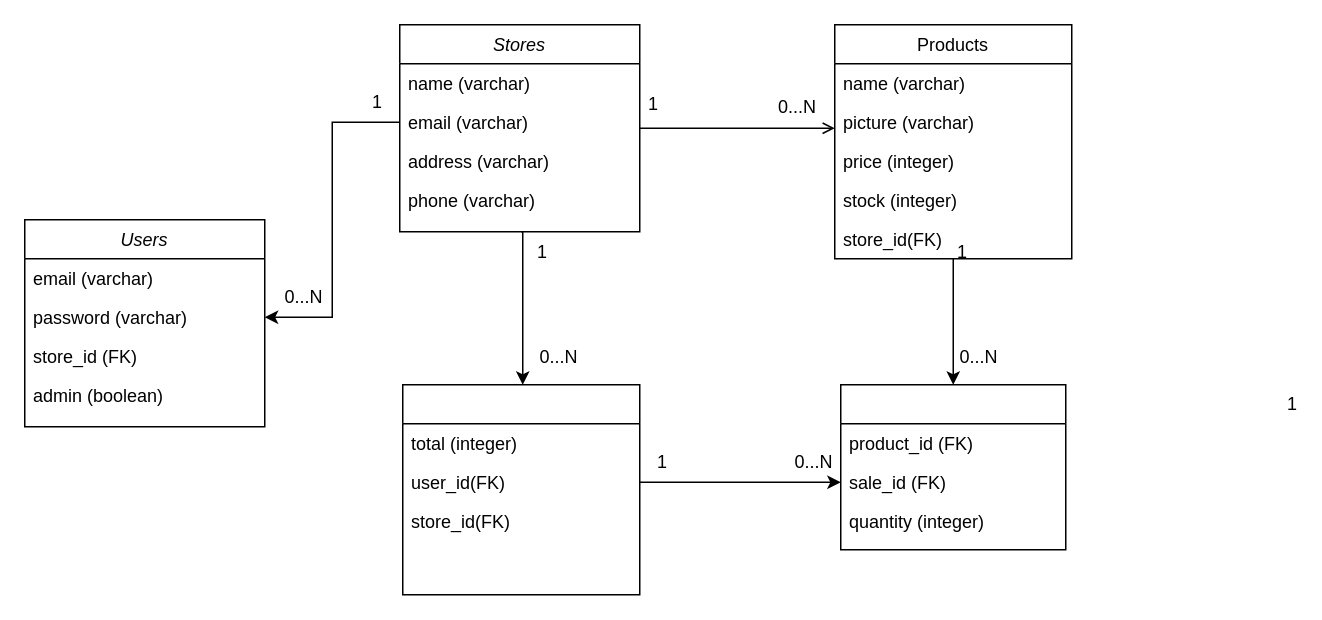
The diagram is 1322 pixels wide and 620 high, and some of its shapes have lost their labels. The shapes that lost their labels are listed below. From the top down, each one's box as (x1, y1, x2, y2) in pixels, then its label:
(839, 383, 1066, 550): ItemsSale
(401, 383, 640, 595): Sales
